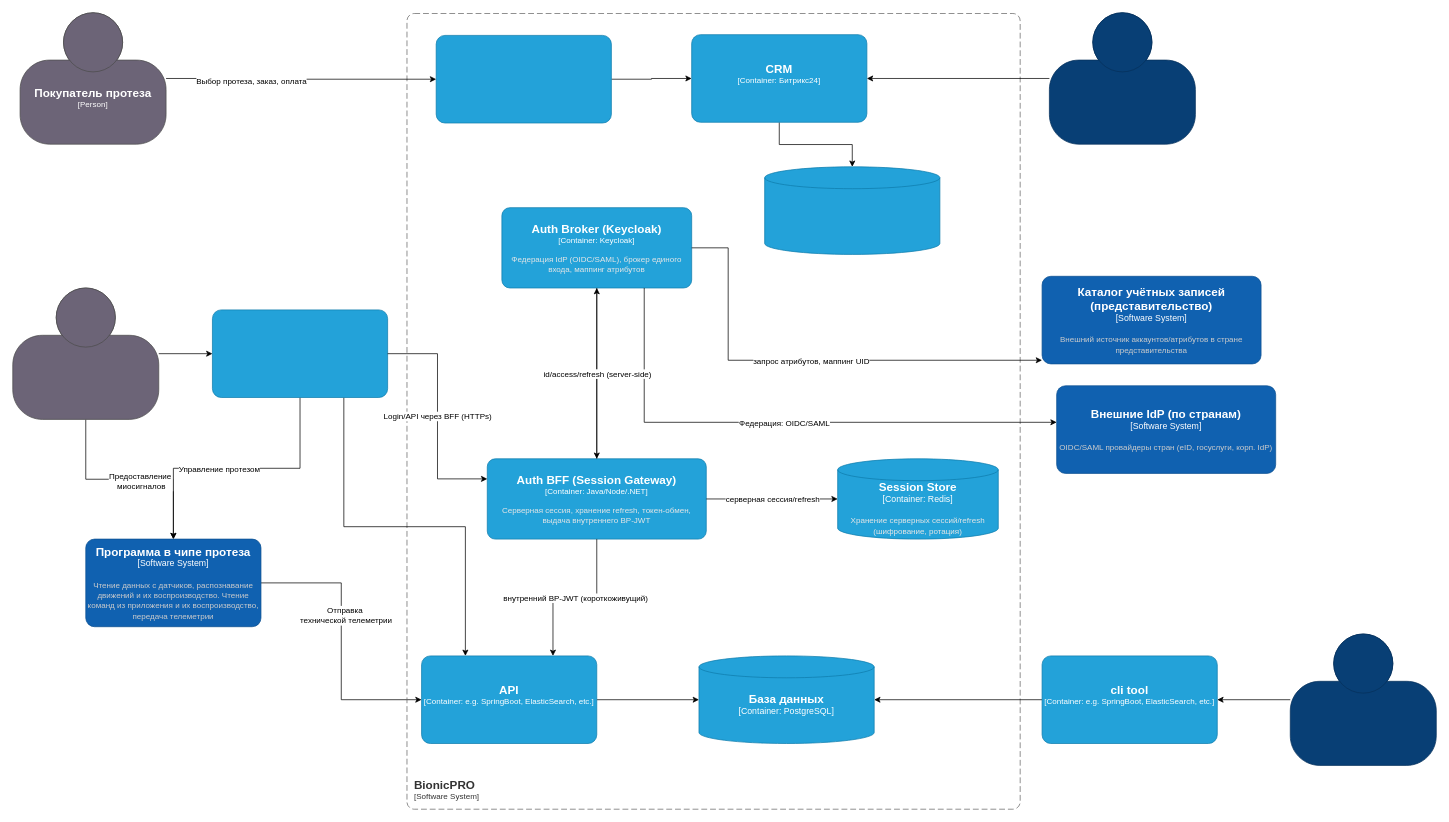
Image size: 1449x822. Some labels were removed from this diagram. The shapes that lost their labels are listed below. From the top down, each one's centre as x and y in pixels, then its label:
the point at 523,79: Интернет-магазин [Container: Битрикс24]
the point at 1122,78: Оператор производства [Person]
the point at 852,210: CRM DB [Container: e.g. Oracle Database 12]
the point at 85,353: Пилот протеза [Person] С этого человека считываются данные
the point at 300,353: Приложение для донастройки протеза [Container: iOD, Android]
the point at 1363,699: ML-инженер [Person]
